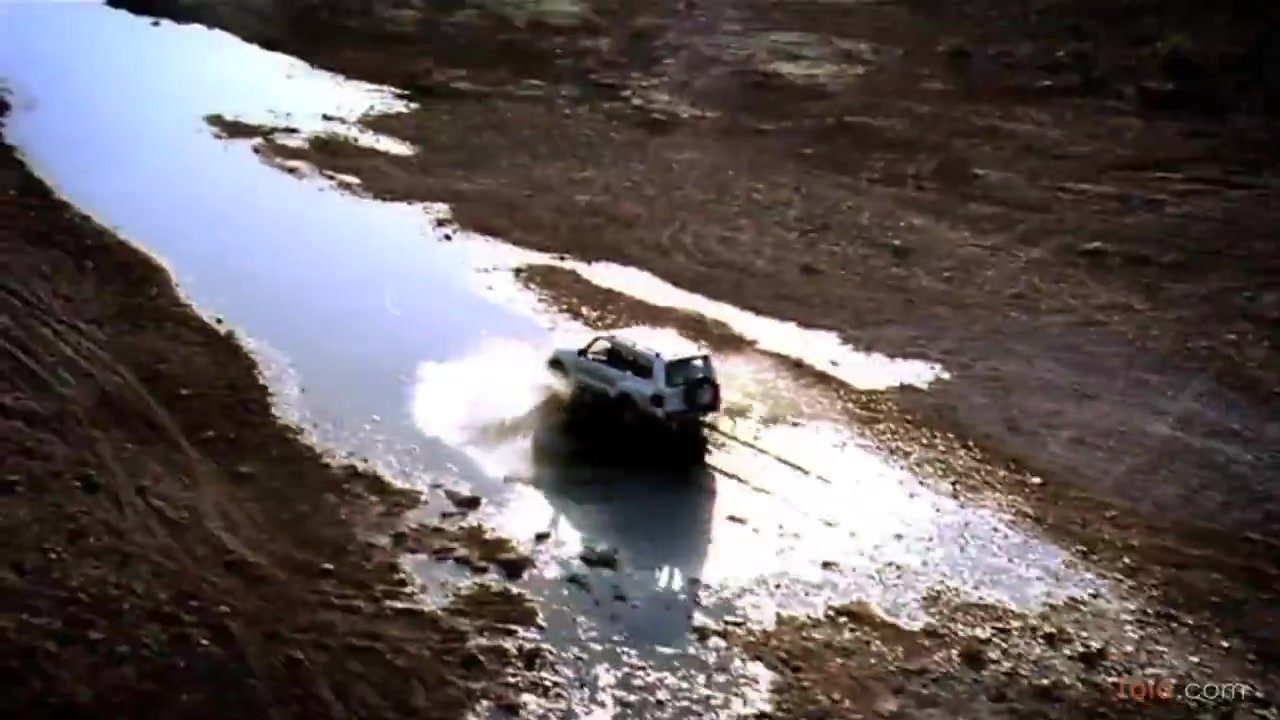car: (546, 322, 722, 424)
